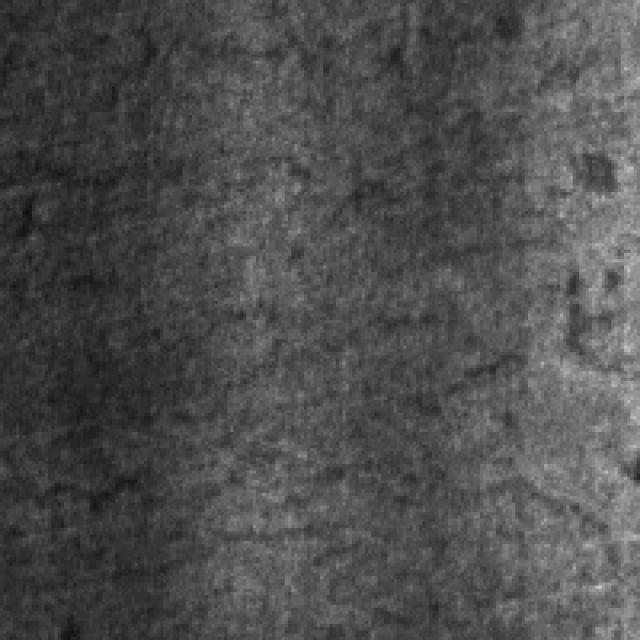crazing: (112, 86, 576, 340), (0, 330, 355, 579)
